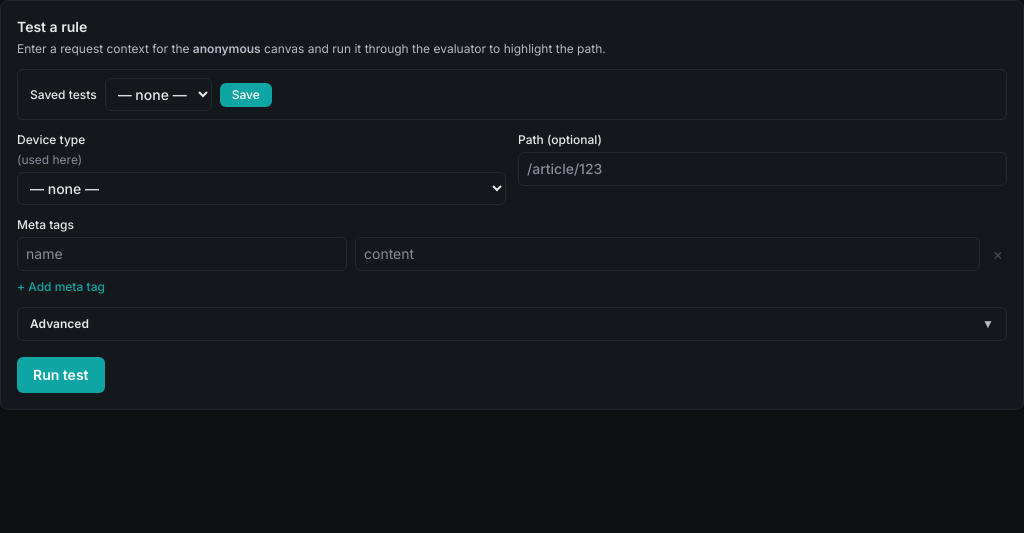
Test: TestPanel › shows a friendly message when the proxy is unreachable
Click the button "Run test". click: (61, 375)
box: [17,357,104,393]
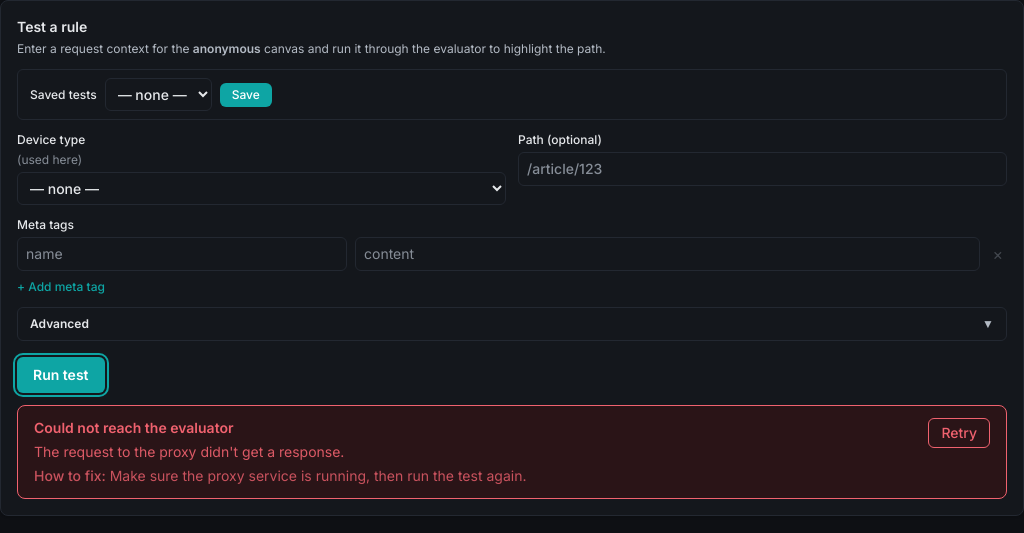
Expected: the text "Could not reach the evaluator" is shown, [34,419,234,436]
